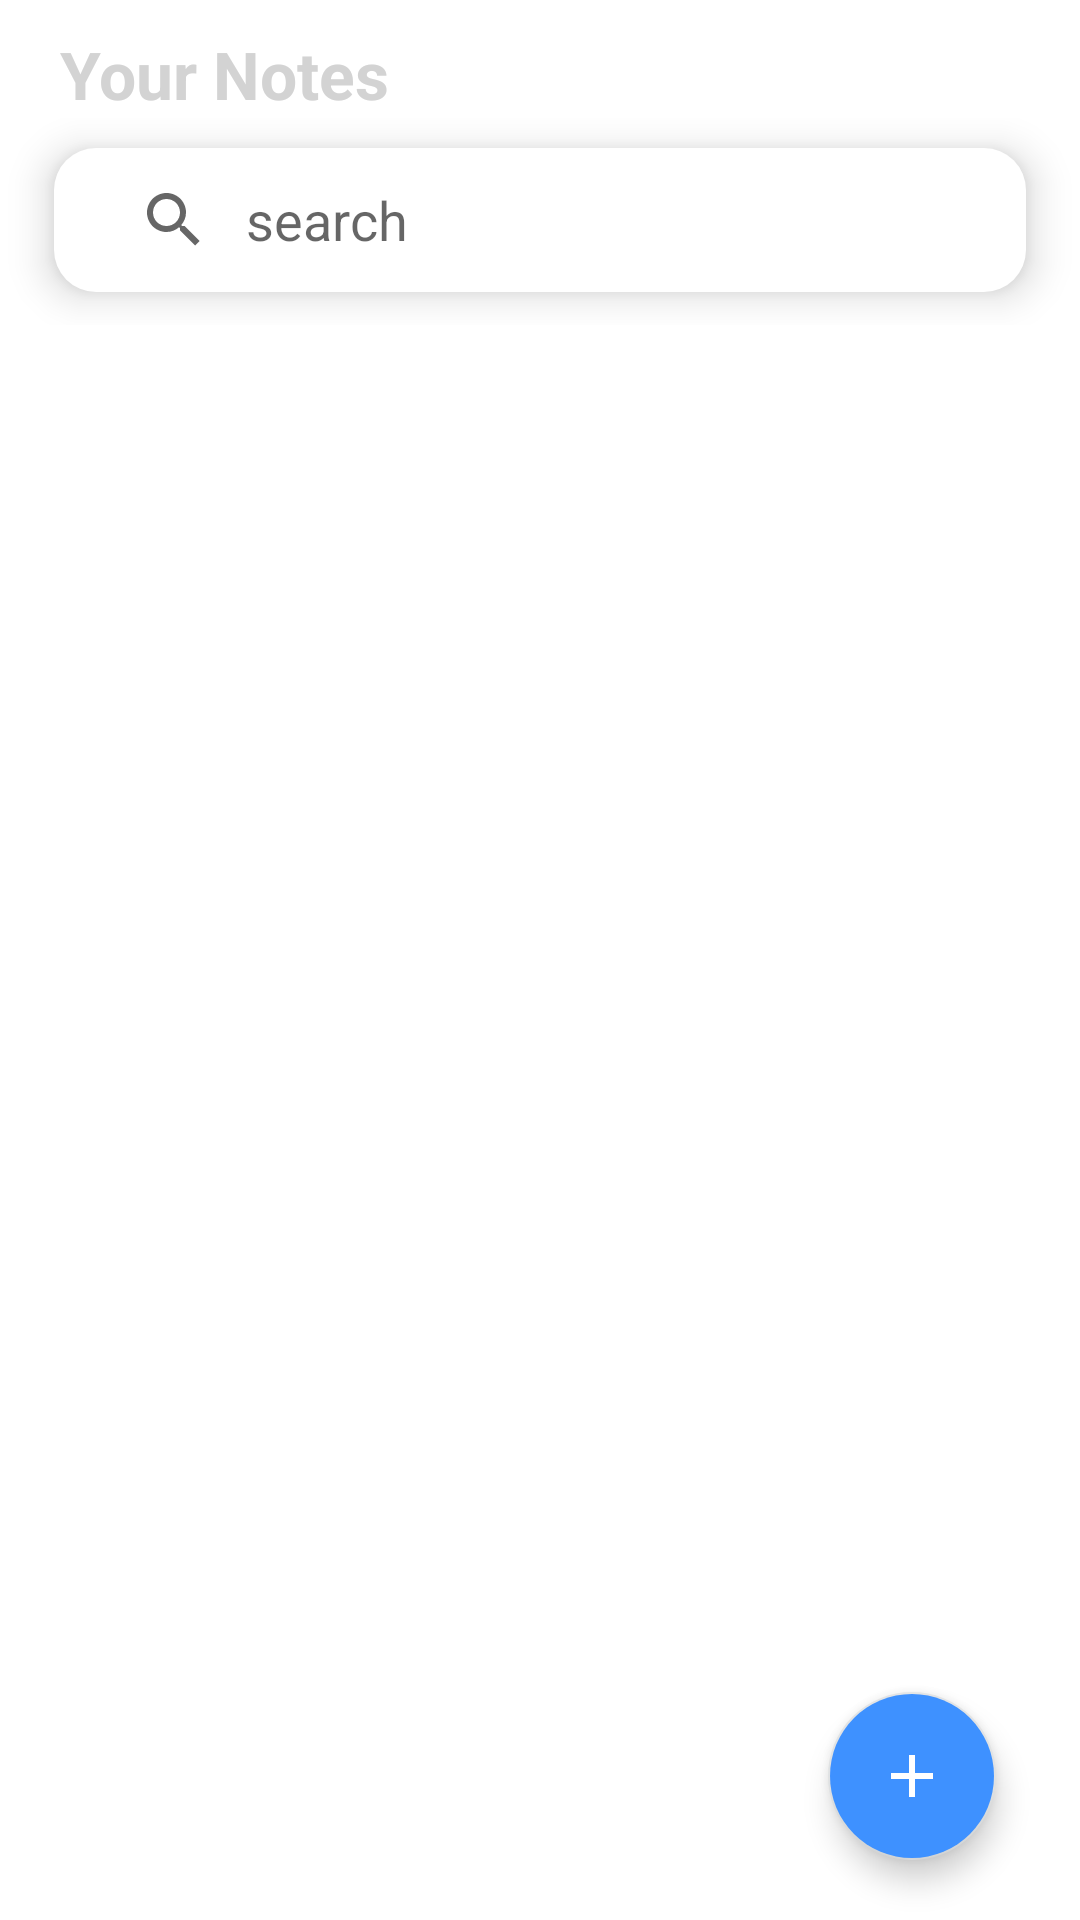

Where to tap for icons on this 1080w x 1920h app screen, as point (x, y):
add: point (912, 1776)
